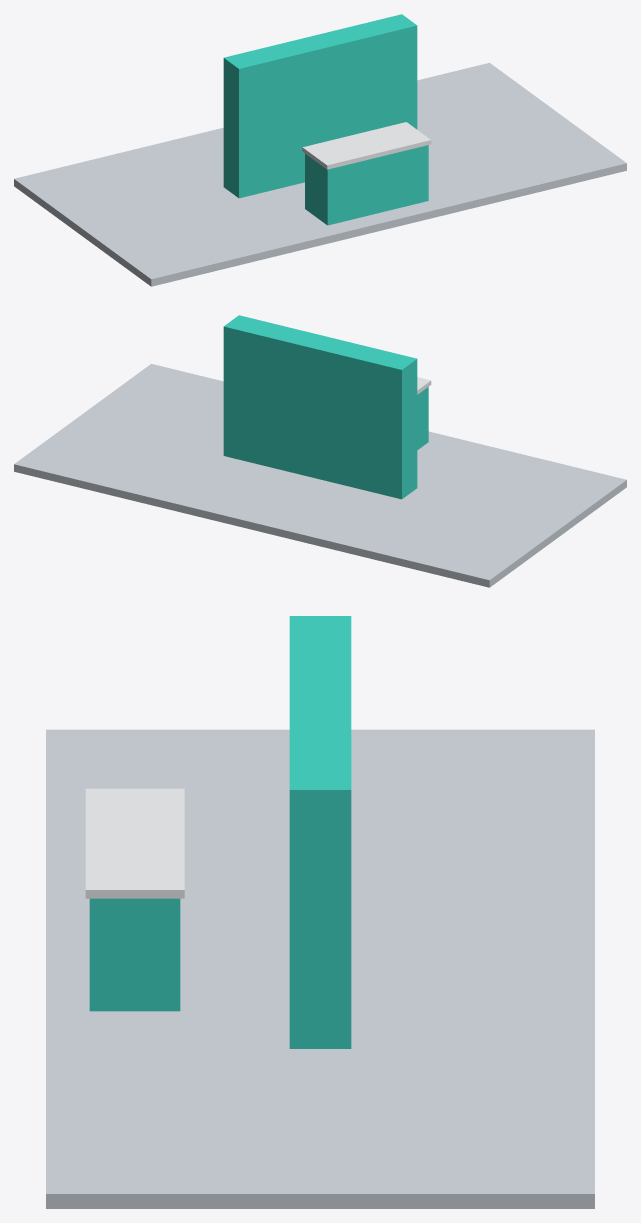
3 views of the same model, one above another, from view 1: azimuth 30°, elevation 25°; view 2: azimuth 150°, elevation 25°; view 3: azimuth 270°, elevation 25° (orthographic). The views are drawn at different scales.
Parts seen in each view (by area): view 1: Exhibition Booth Concept; view 2: Exhibition Booth Concept; view 3: Exhibition Booth Concept.
Part boxes in pixels (x1,y1,x2,y2): Exhibition Booth Concept: (14, 14, 626, 286); Exhibition Booth Concept: (14, 315, 626, 587); Exhibition Booth Concept: (46, 616, 594, 1208).
Size of the model in its own units: 8 by 2.2 by 4.
